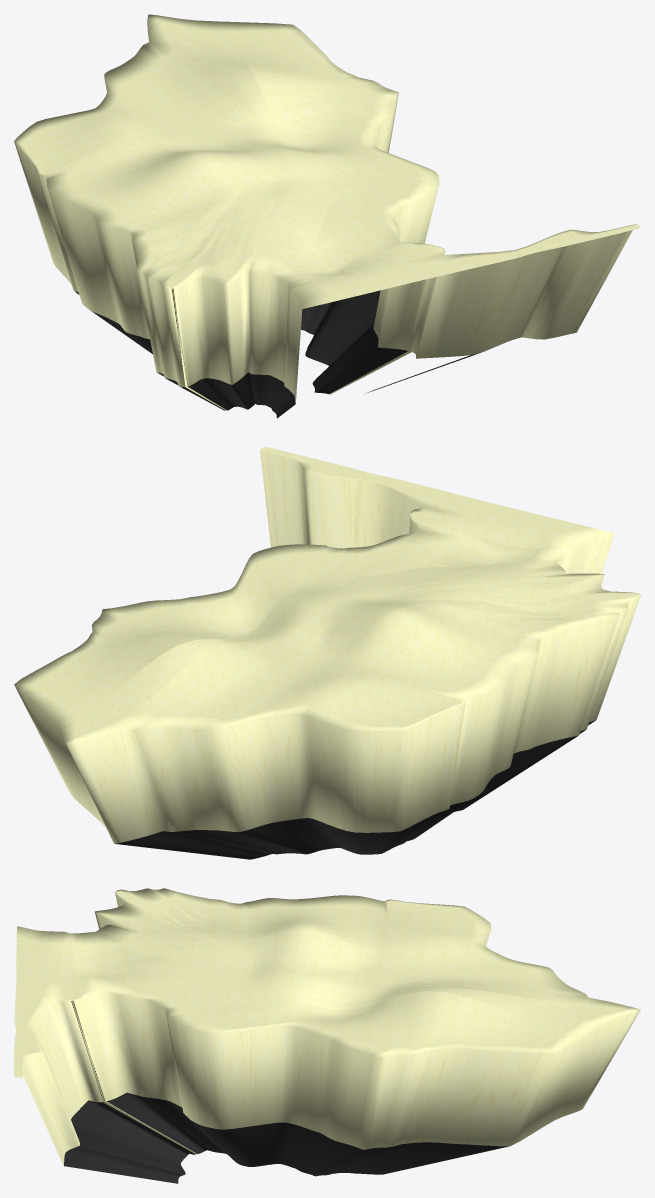
Rendered from Carthenge.fbx.
The picture shows the model from 3 angles, top to bottom: view 1: azimuth 30°, elevation 25°; view 2: azimuth 150°, elevation 25°; view 3: azimuth 270°, elevation 25°; orthographic projection. The views are drawn at different scales.
Parts seen in each view (by area): view 1: Plane_001; view 2: Plane_001; view 3: Plane_001.
Part boxes in pixels (box(x1,y1,x2,y2)): Plane_001: box(14, 14, 640, 418); Plane_001: box(14, 447, 640, 859); Plane_001: box(14, 888, 640, 1183).
Bounding box in the file's own units: 1361 × 653 × 1903.
Materials: 3 (2 with a texture image).
